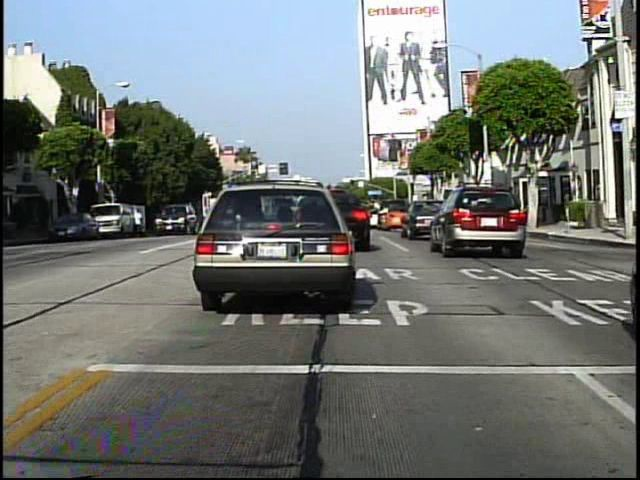person: (132, 203, 146, 238)
